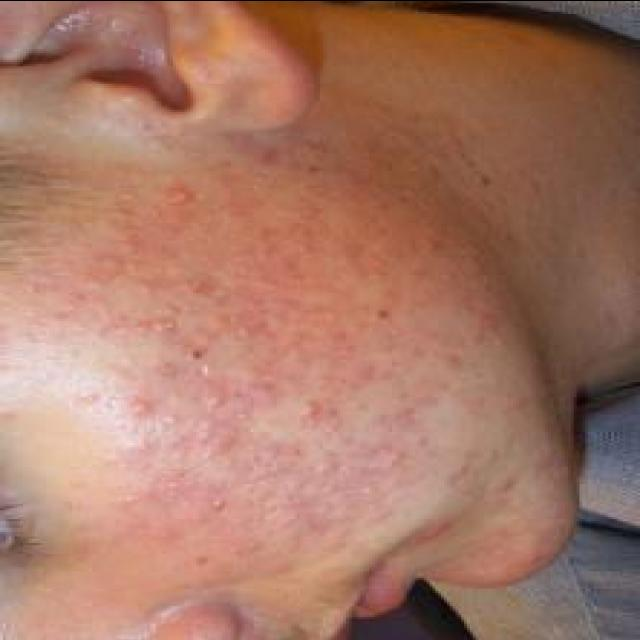Acne: (106, 312, 182, 339), (292, 398, 344, 436), (226, 310, 278, 346), (188, 421, 240, 455), (160, 180, 200, 212), (248, 141, 289, 169), (122, 394, 156, 422), (198, 494, 238, 516)
